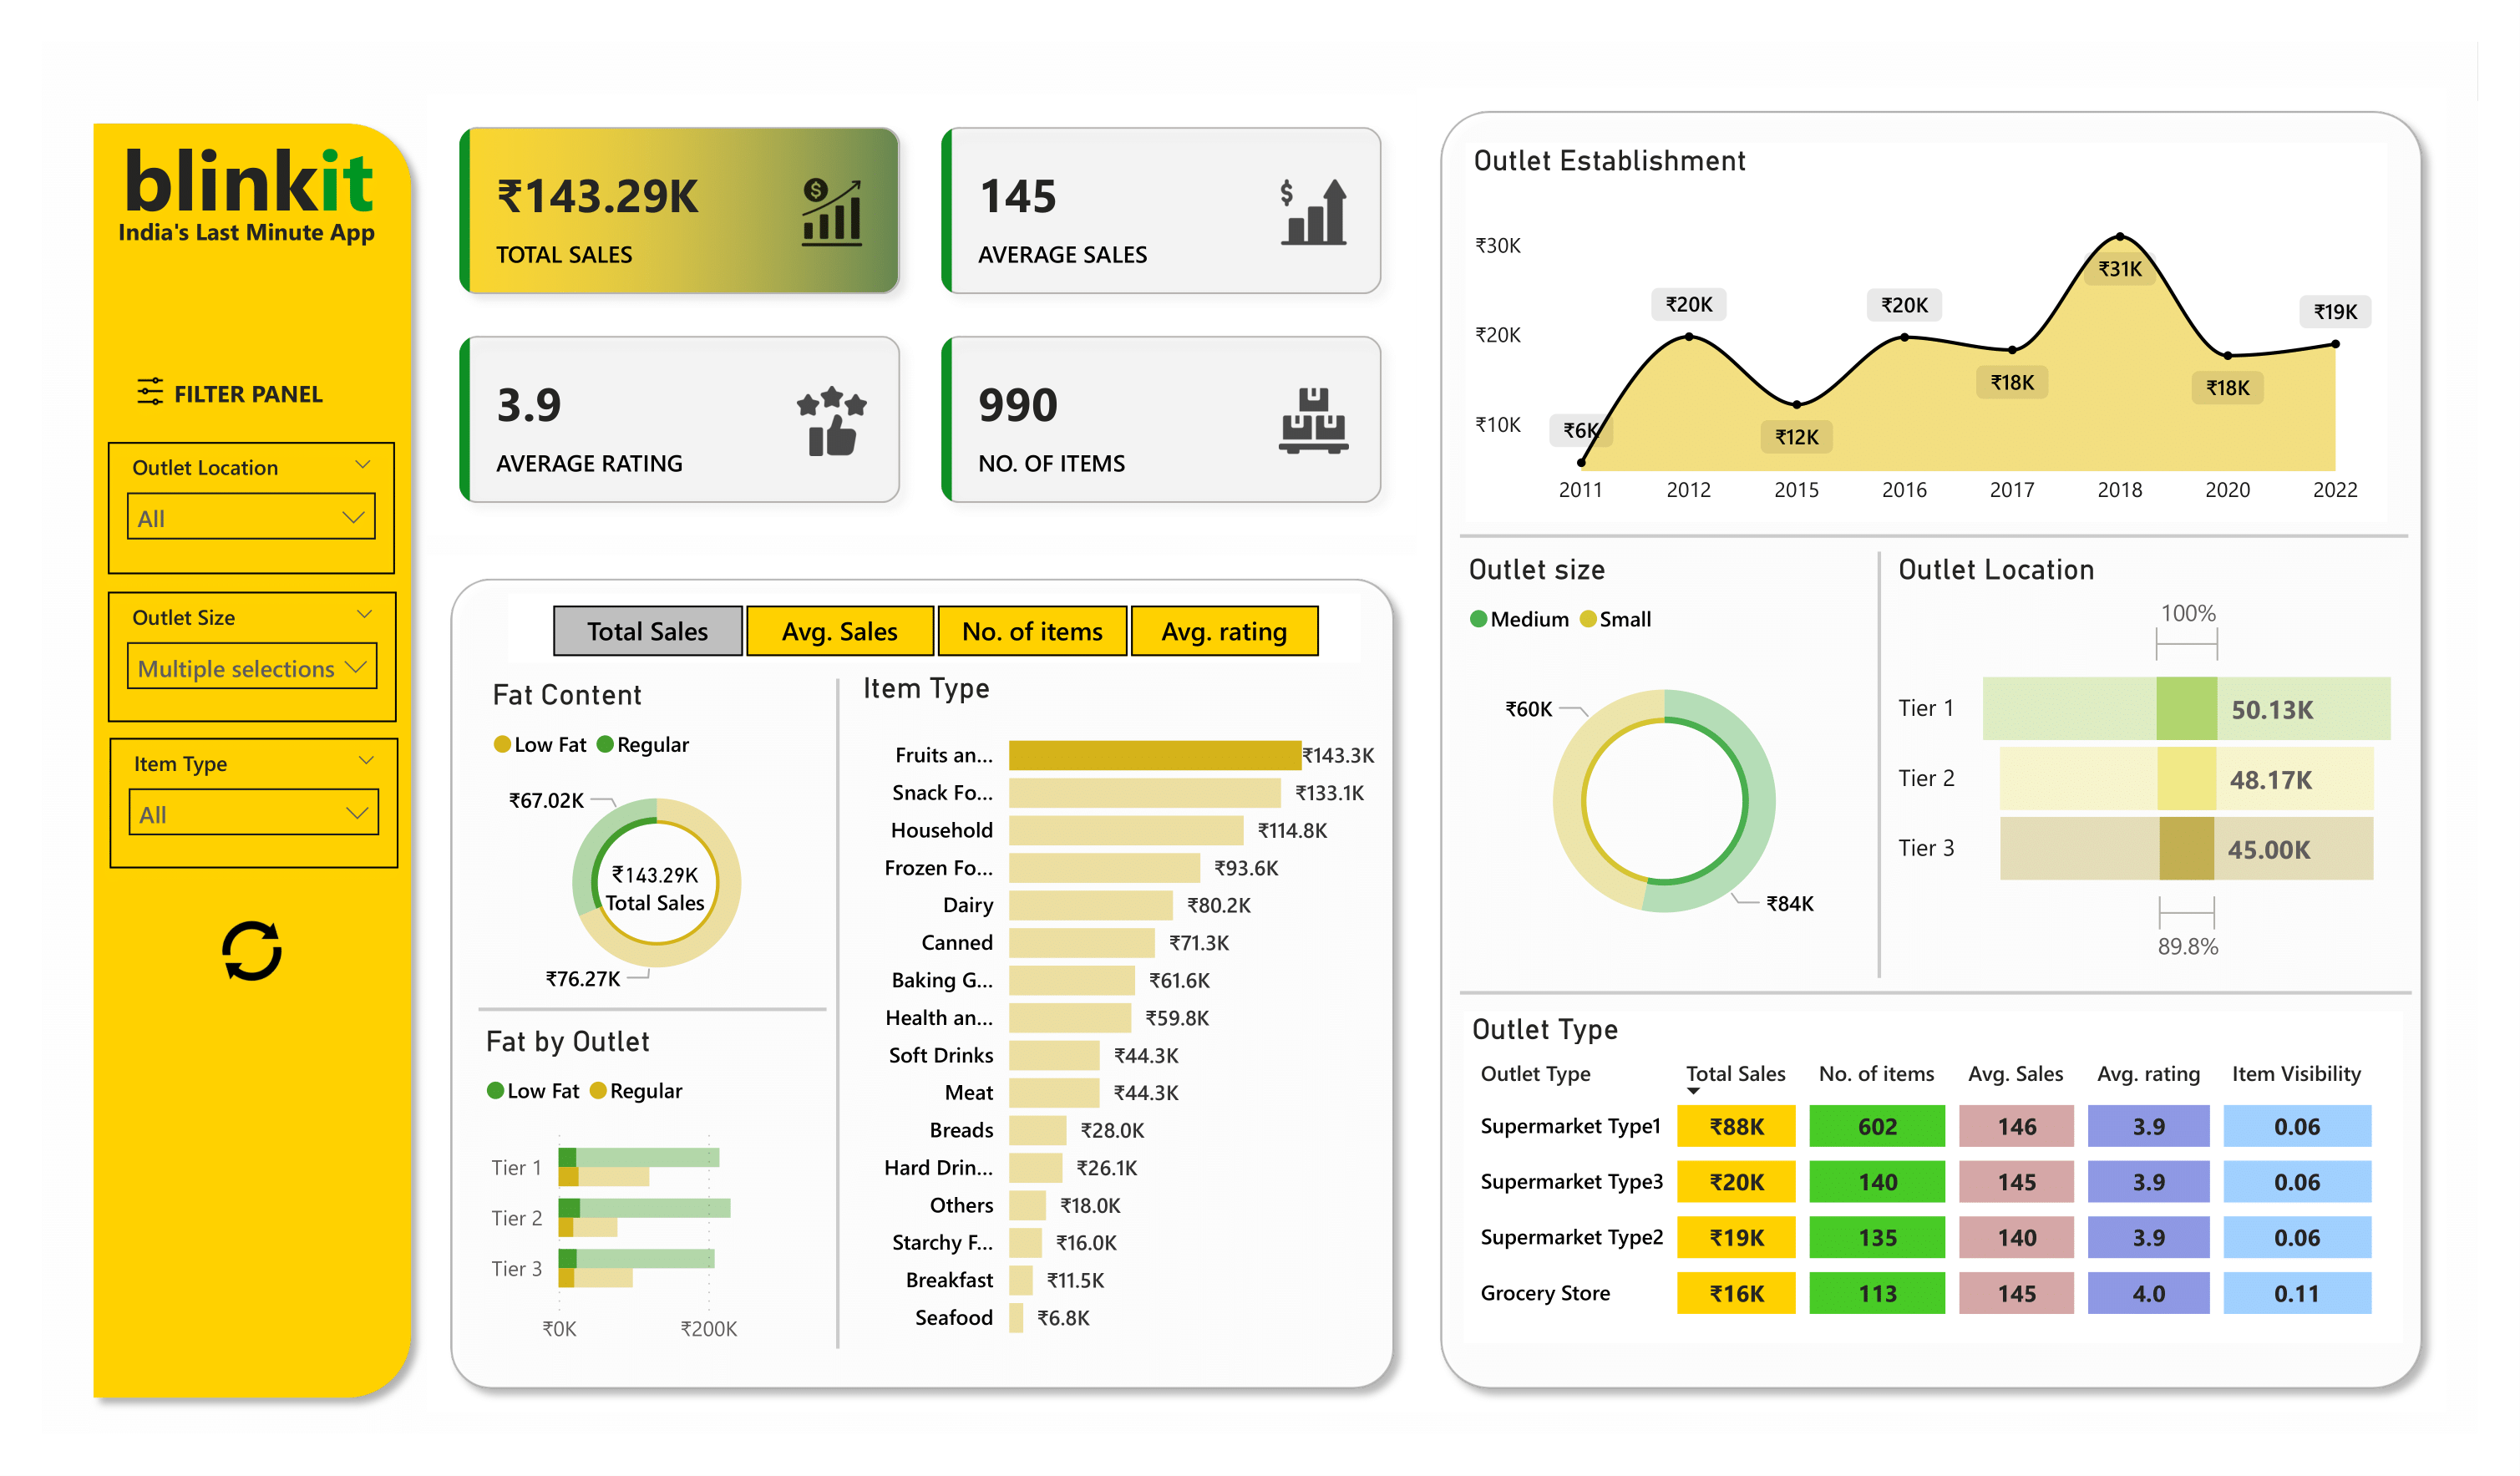

The page's visual inventory and layout, read from the dashboard file:
{"tool":"powerbi","page":{"name":"Page 1","canvas":[1400,800],"ordinal":0},"visuals":[{"type":"shape","box":[20.9,38.2,200,750],"z":0},{"type":"textbox","box":[39,95,170,28],"z":1000},{"type":"textbox","box":[40.8,40,165,75],"z":2000},{"type":"pivotTable","fields":{"Values":["BlinkIT Grocery Data.Total Sales","BlinkIT Grocery Data.No. of items","BlinkIT Grocery Data.Avg. Sales","BlinkIT Grocery Data.Avg. rating","Sum(BlinkIT Grocery Data.Item Visibility)"],"Rows":["BlinkIT Grocery Data.Outlet Type"]},"box":[817.5,497.5,545,250],"z":3000},{"type":"shape","box":[221,295,570,493],"z":4000},{"type":"donutChart","title":"Fat Content","fields":{"Y":["BlinkIT Grocery Data.Total Sales"],"Category":["BlinkIT Grocery Data.Item Fat Content"]},"box":[253.6,364.5,199.1,190],"z":5000},{"type":"slicer","fields":{"Values":["Metric.Metric"]},"box":[267.9,316.8,490.6,39.8],"z":6000},{"type":"cardVisual","fields":{"Data":["BlinkIT Grocery Data.Total Sales"]},"box":[300,455,105,55],"z":7000},{"type":"clusteredBarChart","title":"Fat by Outlet","fields":{"Category":["BlinkIT Grocery Data.Outlet Location Type"],"Y":["BlinkIT Grocery Data.Total Sales"],"Series":["BlinkIT Grocery Data.Item Fat Content"]},"box":[250,564.4,197.8,193.3],"z":8000},{"type":"shape","box":[251.1,545.6,200,20],"z":9000},{"type":"shape","box":[448,366.2,18.8,385],"z":10000},{"type":"barChart","title":"Item Type","fields":{"Y":["BlinkIT Grocery Data.Total Sales"],"Category":["BlinkIT Grocery Data.Item Type"]},"box":[467.1,361.4,304.3,394.3],"z":11000},{"type":"shape","box":[790,25.6,592.2,762.2],"z":12000},{"type":"lineChart","title":"Outlet Establishment","fields":{"Y":["BlinkIT Grocery Data.Total Sales"],"Category":["BlinkIT Grocery Data.Outlet Establishment Year"]},"box":[817.5,57.5,530,218.8],"z":13000},{"type":"shape","box":[815,278.8,545,10],"z":14000},{"type":"donutChart","title":"Outlet size","fields":{"Y":["BlinkIT Grocery Data.Total Sales"],"Category":["BlinkIT Grocery Data.Outlet Size"]},"box":[815,293.3,235,240],"z":15000},{"type":"shape","box":[1050,293.3,11.7,245],"z":16000},{"type":"funnel","title":"Outlet Location","fields":{"Y":["Sum(BlinkIT Grocery Data.Sales)"],"Category":["BlinkIT Grocery Data.Outlet Location Type"]},"box":[1061.7,293.3,298.3,241.7],"z":17000},{"type":"shape","box":[815,533.3,546.7,26.7],"z":18000},{"type":"pivotTable","title":"Outlet Type","fields":{"Rows":["BlinkIT Grocery Data.Outlet Type"],"Values":["BlinkIT Grocery Data.Total Sales","BlinkIT Grocery Data.No. of items","BlinkIT Grocery Data.Avg. Sales","BlinkIT Grocery Data.Avg. rating","Avg(BlinkIT Grocery Data.Item Visibility)"]},"box":[816.7,556.7,540,191.7],"z":19000},{"type":"cardVisual","fields":{"Data":["BlinkIT Grocery Data.Total Sales","BlinkIT Grocery Data.Avg. Sales","BlinkIT Grocery Data.Avg. rating","BlinkIT Grocery Data.No. of items"]},"box":[220.9,30,568.9,254.4],"z":20000},{"type":"slicer","fields":{"Values":["BlinkIT Grocery Data.Outlet Location Type"]},"box":[37.8,230,165.6,75.6],"z":21000},{"type":"slicer","fields":{"Values":["BlinkIT Grocery Data.Outlet Size"]},"box":[38.2,316.4,165.5,74.5],"z":22000},{"type":"slicer","fields":{"Values":["BlinkIT Grocery Data.Item Type"]},"box":[39.1,400,165.5,75.5],"z":23000},{"type":"textbox","box":[71.1,187.8,105.6,28.9],"z":24000},{"type":"image","box":[46.2,186.9,33.1,29.4],"z":25000},{"type":"actionButton","box":[101.1,502.2,40,40],"z":25001}]}

Visuals, with their boxes on the page's 1400x800 design canvas (x1, y1, x2, y2). These are canvas units, not pixel positions in the 2520x1476 screenshot, which may show the page scaled, cropped or inside an application window:
shape: locate(21, 38, 221, 788)
textbox: locate(39, 95, 209, 123)
textbox: locate(41, 40, 206, 115)
pivotTable - BlinkIT Grocery Data.Total Sales x BlinkIT Grocery Data.No. of items: locate(818, 498, 1362, 748)
shape: locate(221, 295, 791, 788)
"Fat Content" donutChart: locate(254, 364, 453, 554)
slicer - Metric.Metric: locate(268, 317, 758, 357)
cardVisual - BlinkIT Grocery Data.Total Sales: locate(300, 455, 405, 510)
"Fat by Outlet" clusteredBarChart: locate(250, 564, 448, 758)
shape: locate(251, 546, 451, 566)
shape: locate(448, 366, 467, 751)
"Item Type" barChart: locate(467, 361, 771, 756)
shape: locate(790, 26, 1382, 788)
"Outlet Establishment" lineChart: locate(818, 58, 1348, 276)
shape: locate(815, 279, 1360, 289)
"Outlet size" donutChart: locate(815, 293, 1050, 533)
shape: locate(1050, 293, 1062, 538)
"Outlet Location" funnel: locate(1062, 293, 1360, 535)
shape: locate(815, 533, 1362, 560)
"Outlet Type" pivotTable: locate(817, 557, 1357, 748)
cardVisual - BlinkIT Grocery Data.Total Sales x BlinkIT Grocery Data.Avg. Sales: locate(221, 30, 790, 284)
slicer - BlinkIT Grocery Data.Outlet Location Type: locate(38, 230, 203, 306)
slicer - BlinkIT Grocery Data.Outlet Size: locate(38, 316, 204, 391)
slicer - BlinkIT Grocery Data.Item Type: locate(39, 400, 205, 476)
textbox: locate(71, 188, 177, 217)
image: locate(46, 187, 79, 216)
actionButton: locate(101, 502, 141, 542)
